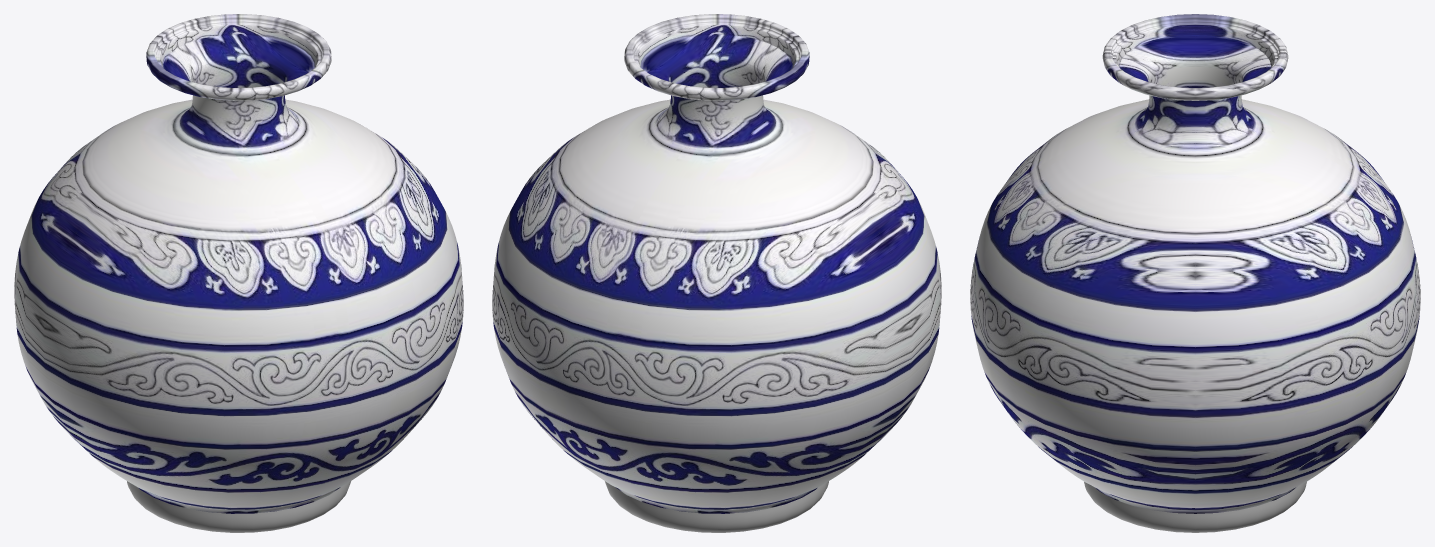
3 renders of one model, left to right at view 1: azimuth 30°, elevation 25°; view 2: azimuth 150°, elevation 25°; view 3: azimuth 270°, elevation 25°, orthographic.
Visible parts, largest first — view 1: TC2, top, bottom; view 2: TC2, top, bottom; view 3: TC2, top, bottom.
Part boxes in pixels (box(x1,y1,x2,y2)): TC2: box(14, 58, 463, 513); top: box(146, 14, 331, 100); bottom: box(127, 481, 350, 532); TC2: box(492, 58, 941, 513); top: box(624, 14, 809, 100); bottom: box(605, 481, 828, 532); TC2: box(970, 58, 1420, 513); top: box(1102, 14, 1288, 100); bottom: box(1084, 482, 1306, 532).
Size of the model in its own units: 0.2727 by 0.2995 by 0.2727.
1 material, 1 textured.
